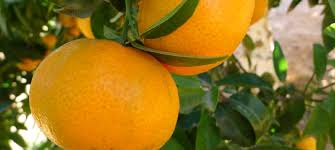orange: (26, 35, 180, 150), (127, 1, 262, 73)
